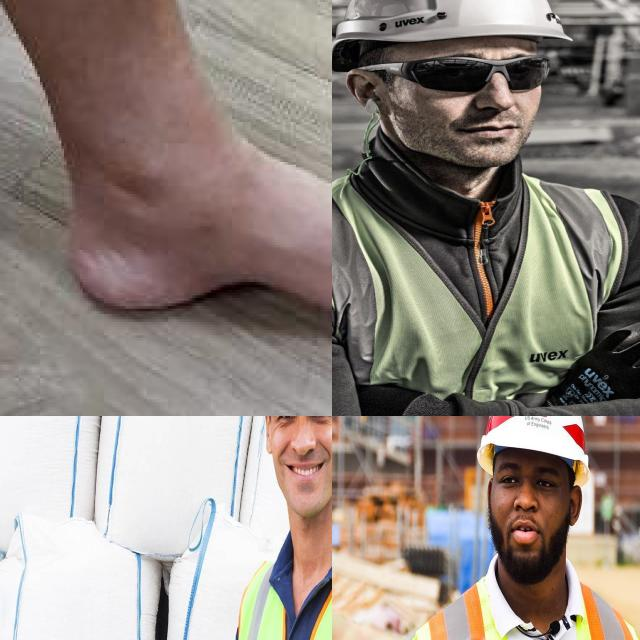Barefoots: (53, 112, 332, 400)
No_Ear-Protection: (566, 481, 585, 532), (263, 416, 274, 457)
No_Glasses: (494, 456, 564, 504), (273, 416, 332, 434)
face_nomask: (406, 38, 568, 182), (262, 416, 332, 509)
glasses: (388, 50, 554, 96)
hand_glove: (559, 309, 640, 403)
head_helmet: (332, 0, 576, 47)
person: (332, 0, 640, 416), (221, 416, 332, 640)
vest: (332, 168, 634, 416), (231, 532, 332, 640)
